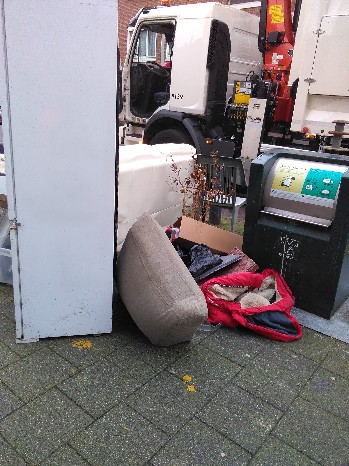Container: (254, 148, 349, 298)
GFT: (182, 162, 220, 215)
Papier: (181, 216, 246, 259)
Rest: (5, 8, 142, 313), (122, 229, 197, 313), (216, 259, 284, 333), (129, 138, 181, 231), (225, 160, 245, 229)
Voertuig: (159, 12, 349, 132)
